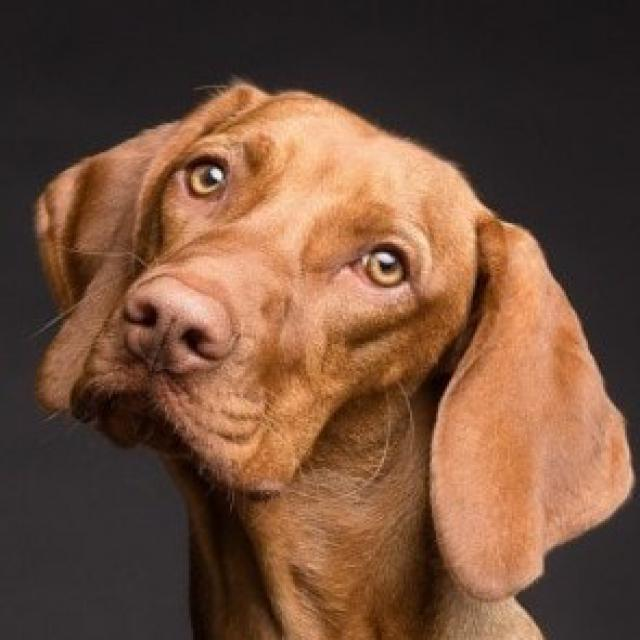eye: (346, 237, 415, 294), (181, 152, 237, 204)
